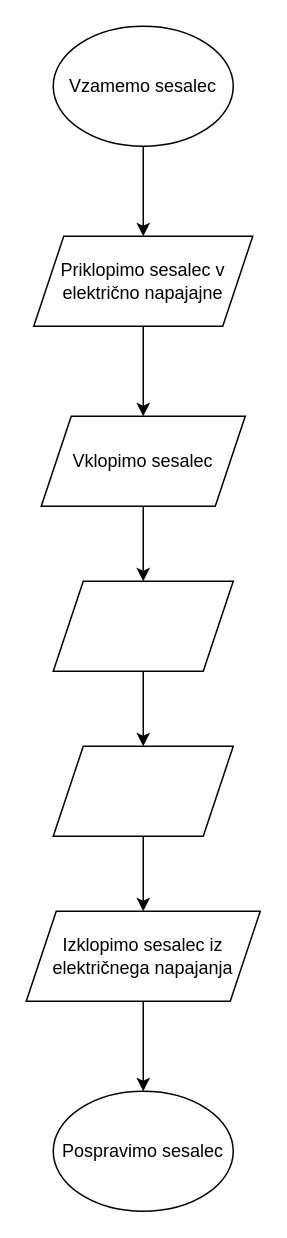
This 287x1238 diagram has some shape labels left out. The centre of each missing label's shape, as x and y in pixels:
"Izklopimo sesalec" goes at point (142, 790).
"Posesamo" goes at point (142, 625).
